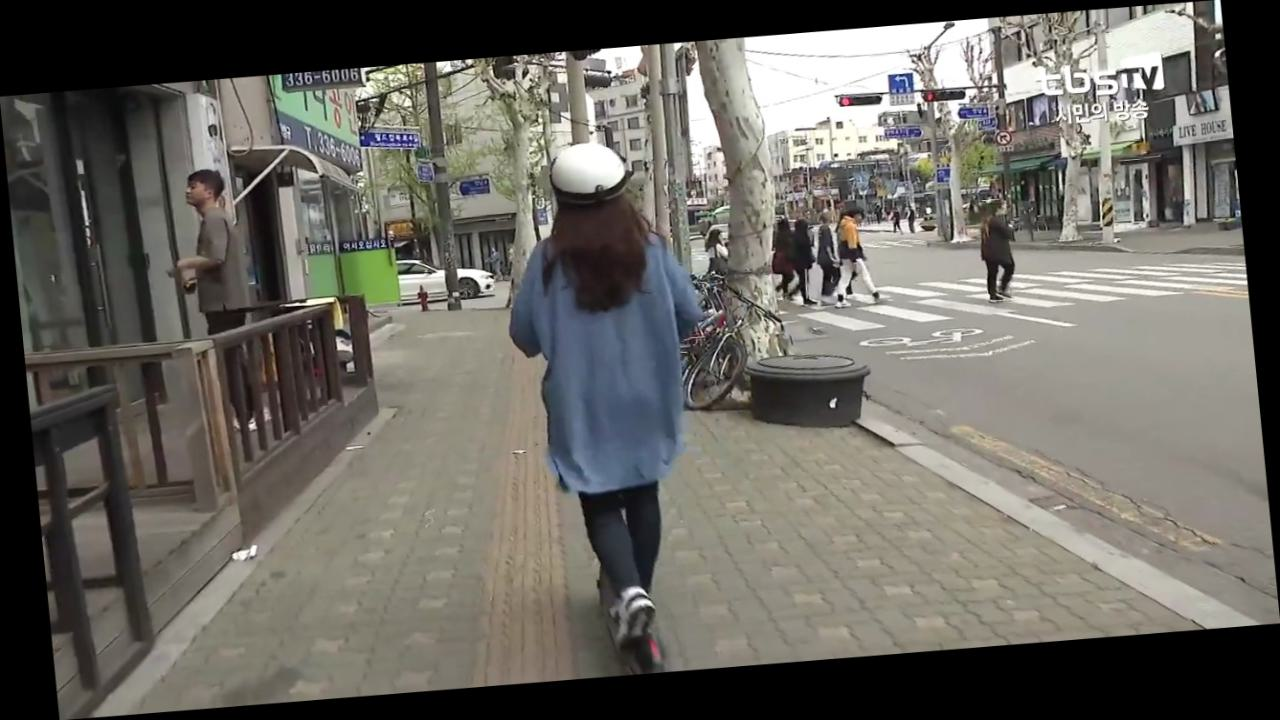helmet: (491, 131, 743, 682)
